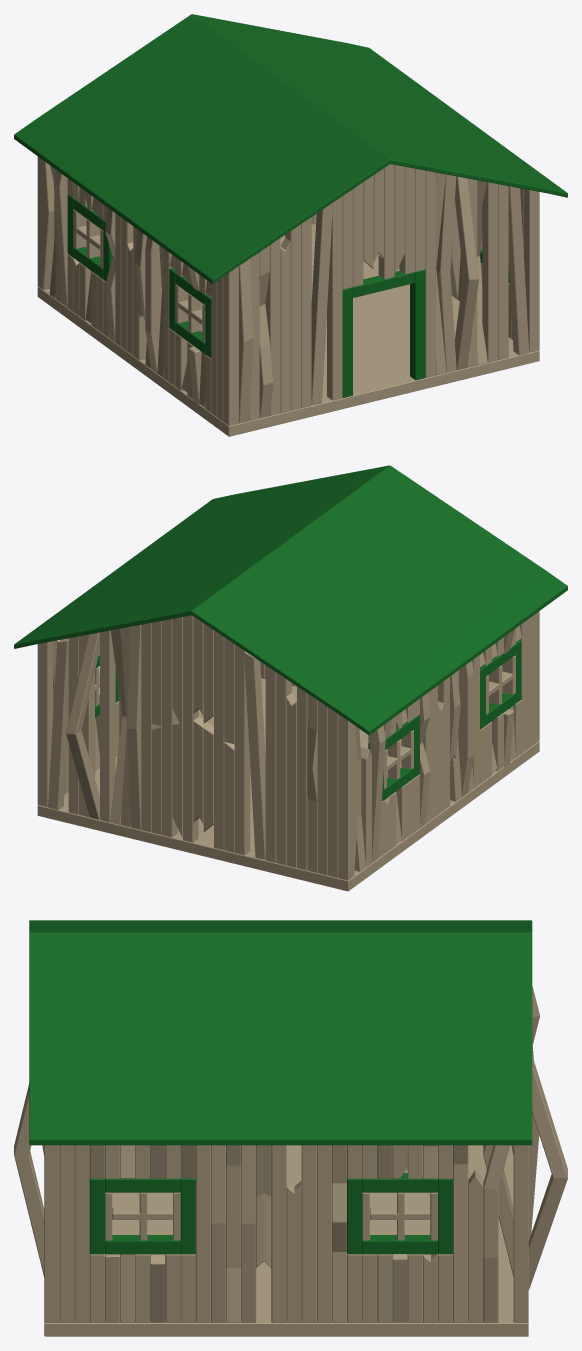
The model's file is House_04.fbx.
3 views of the same model, one above another, from view 1: azimuth 30°, elevation 25°; view 2: azimuth 150°, elevation 25°; view 3: azimuth 270°, elevation 25° (orthographic). The views are drawn at different scales.
Parts seen in each view (by area): view 1: House_04; view 2: House_04; view 3: House_04.
Part boxes in pixels (<box>): House_04: <box>14,14,567,436</box>; House_04: <box>14,465,567,891</box>; House_04: <box>14,920,567,1336</box>.
Size of the model in its own units: 686 by 450 by 732.
